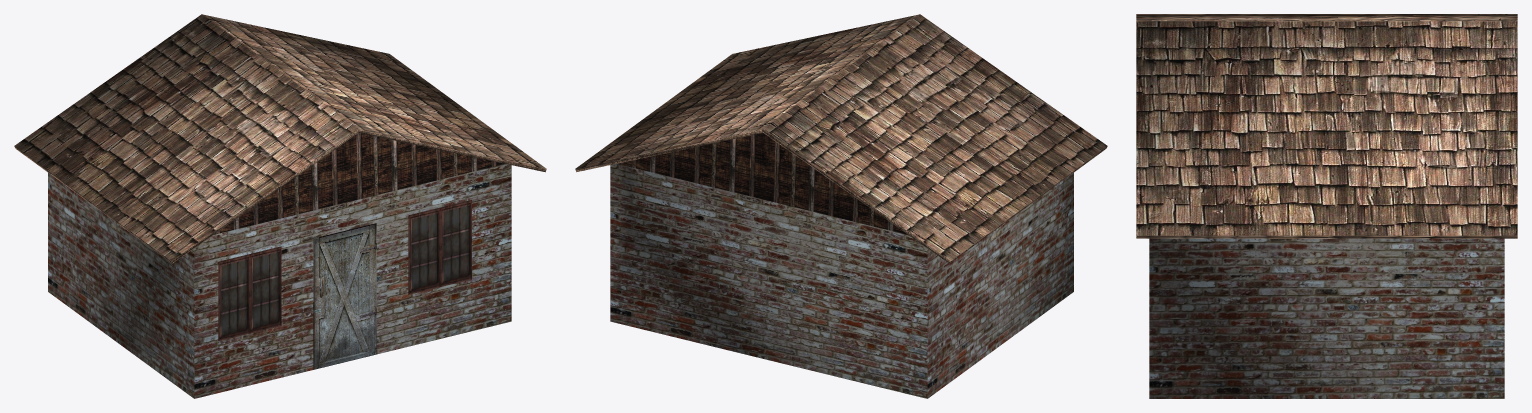
The model's file is HOUSERUSTY.obj.
3 views of the same model, side by side, from view 1: azimuth 30°, elevation 25°; view 2: azimuth 150°, elevation 25°; view 3: azimuth 270°, elevation 25° (orthographic). The views are drawn at different scales.
Visible parts, largest first — view 1: ROOF, BRICK, WINDOWS, WOOD, door; view 2: BRICK, ROOF, WOOD; view 3: ROOF, BRICK.
Part boxes in pixels (x1,y1,x2,y2): ROOF: (14,14,546,263); BRICK: (48,164,511,398); WINDOWS: (218,200,471,341); WOOD: (156,19,504,234); door: (313,223,376,369); BRICK: (610,164,1073,398); ROOF: (575,14,1107,263); WOOD: (617,123,907,234); ROOF: (1136,14,1517,238); BRICK: (1149,238,1504,398).
Size of the model in its own units: 592 by 355 by 429.
5 materials, 5 textured.
